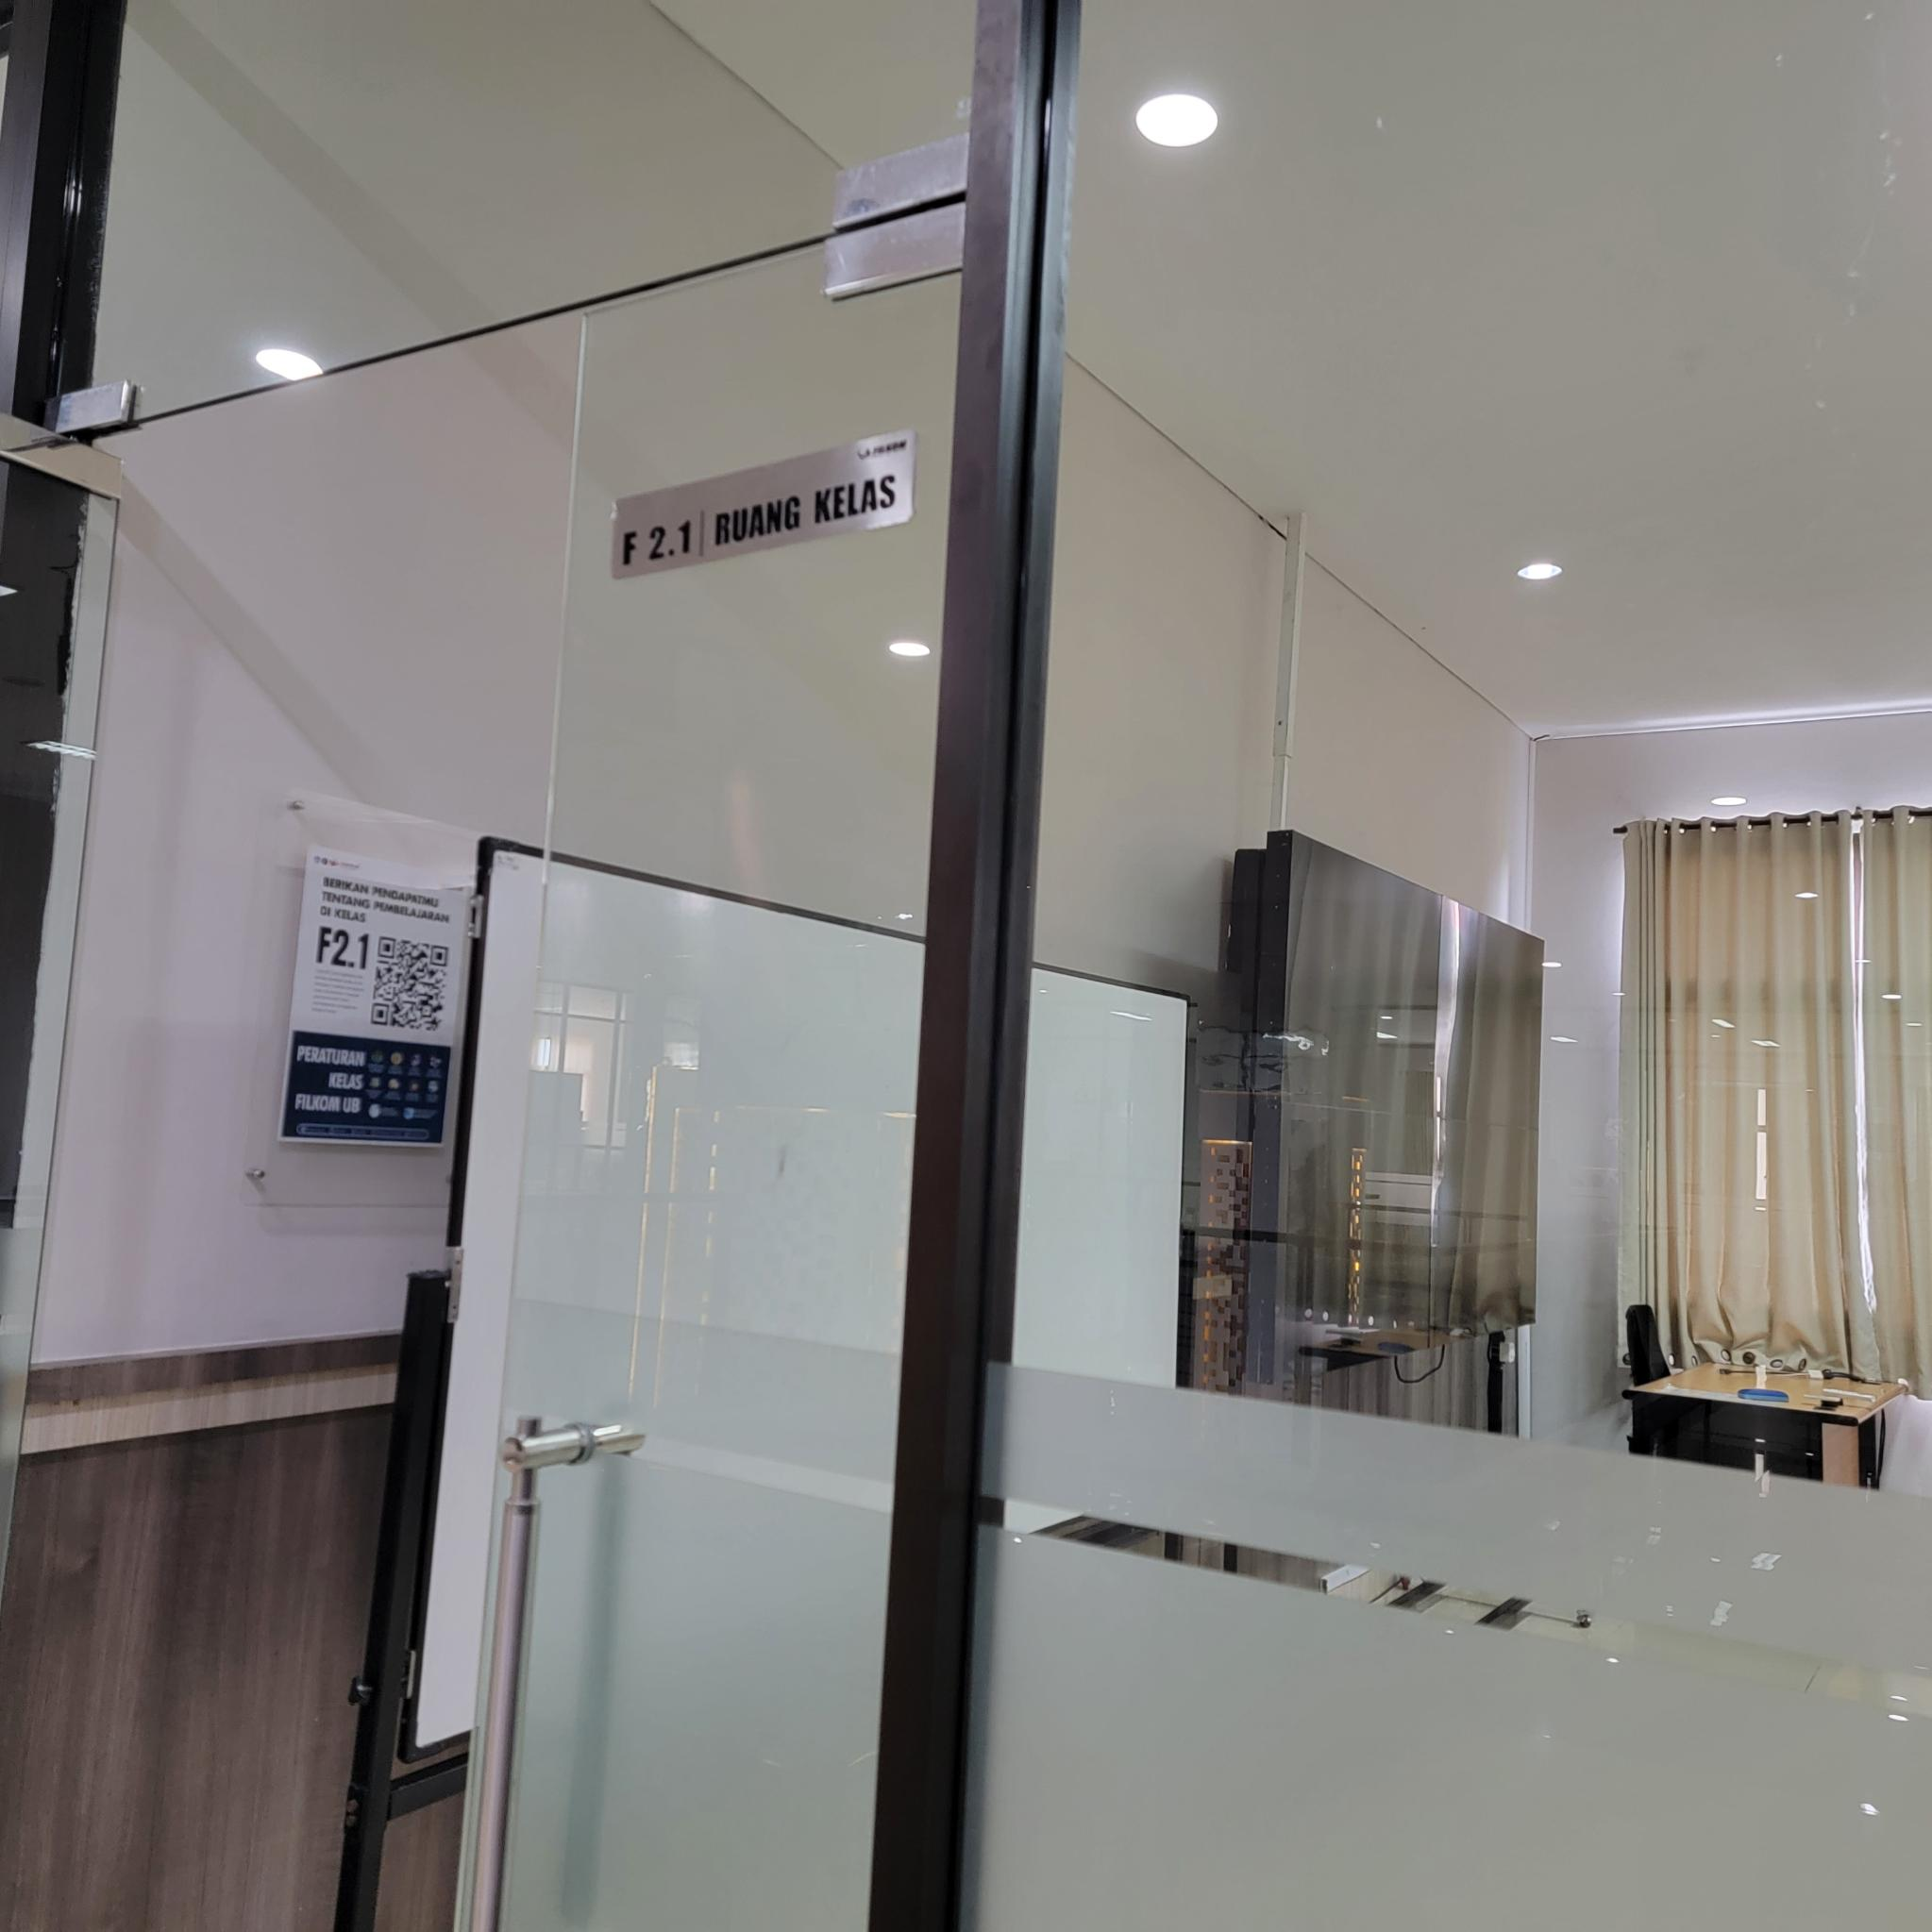plate: (607, 425, 920, 582)
